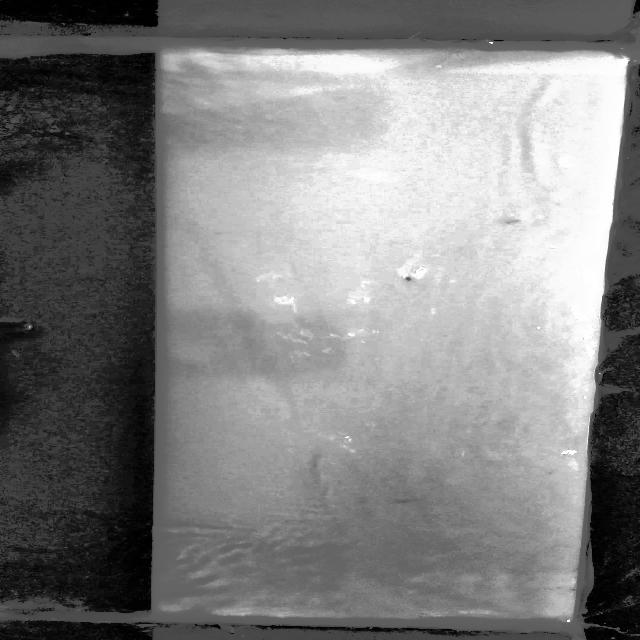shrimp: (390, 498, 418, 506), (398, 274, 418, 284)
